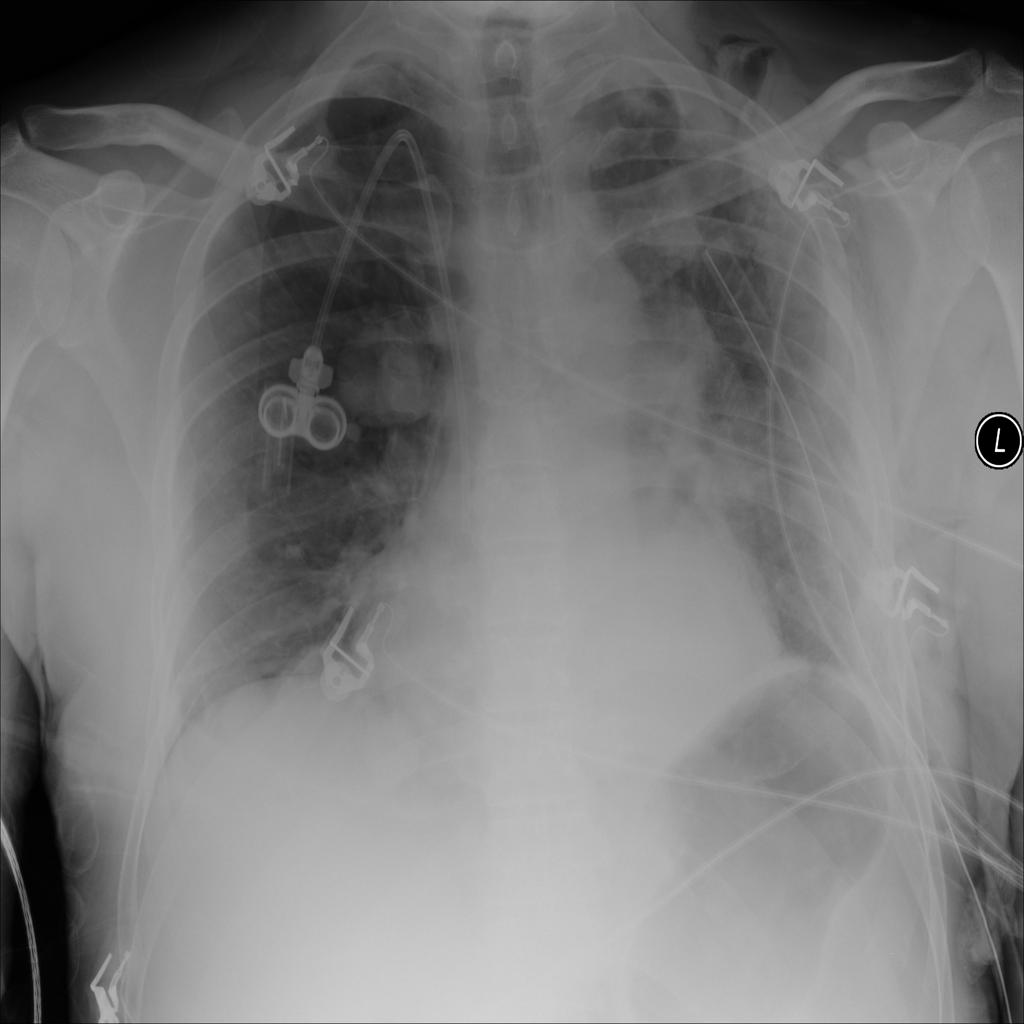nodule: (338, 313, 449, 435)
